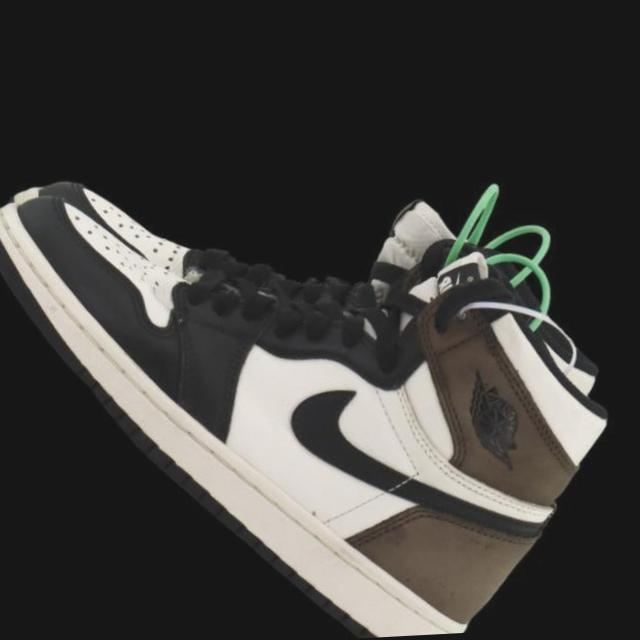nike_original_jordan: (0, 0, 640, 640), (0, 0, 636, 593)
